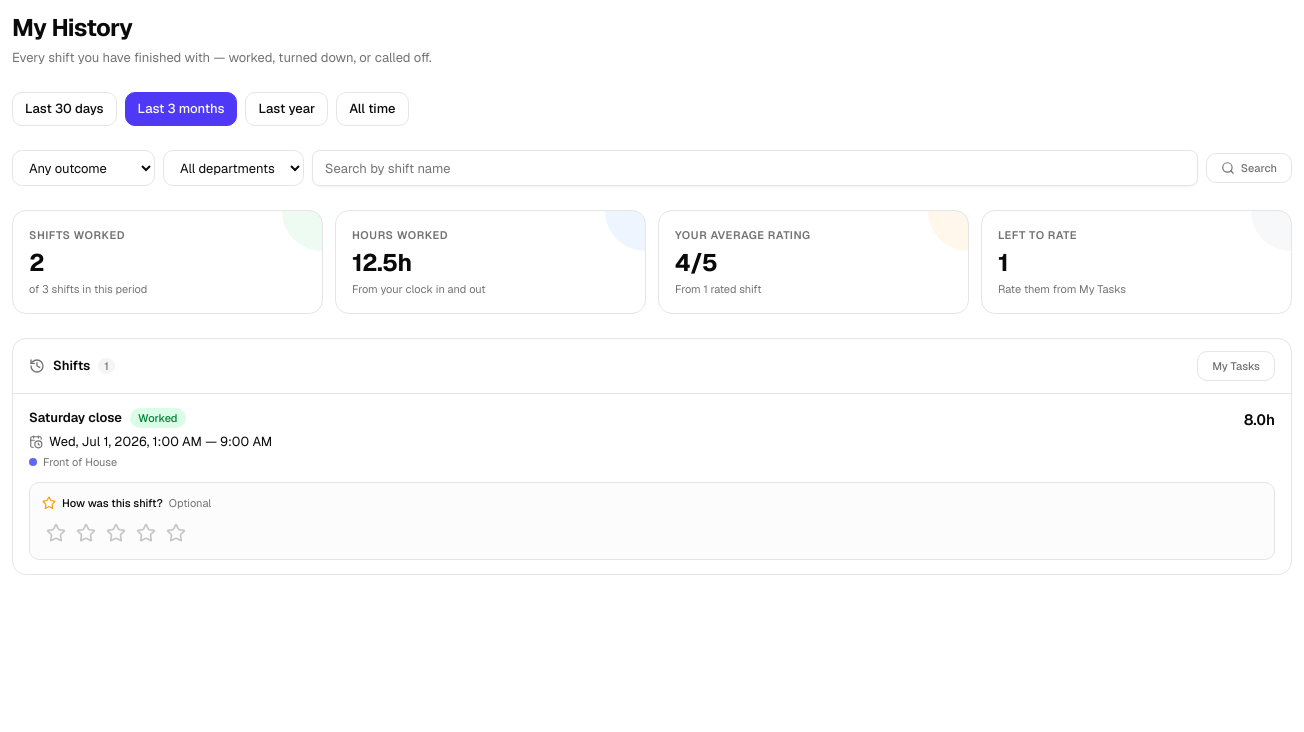
when the load fails › clears the rows it was showing
Expected: the heading "Saturday close" is shown, [29,408,122,428]
Click the button "All time": click(372, 109) [336,92,409,126]
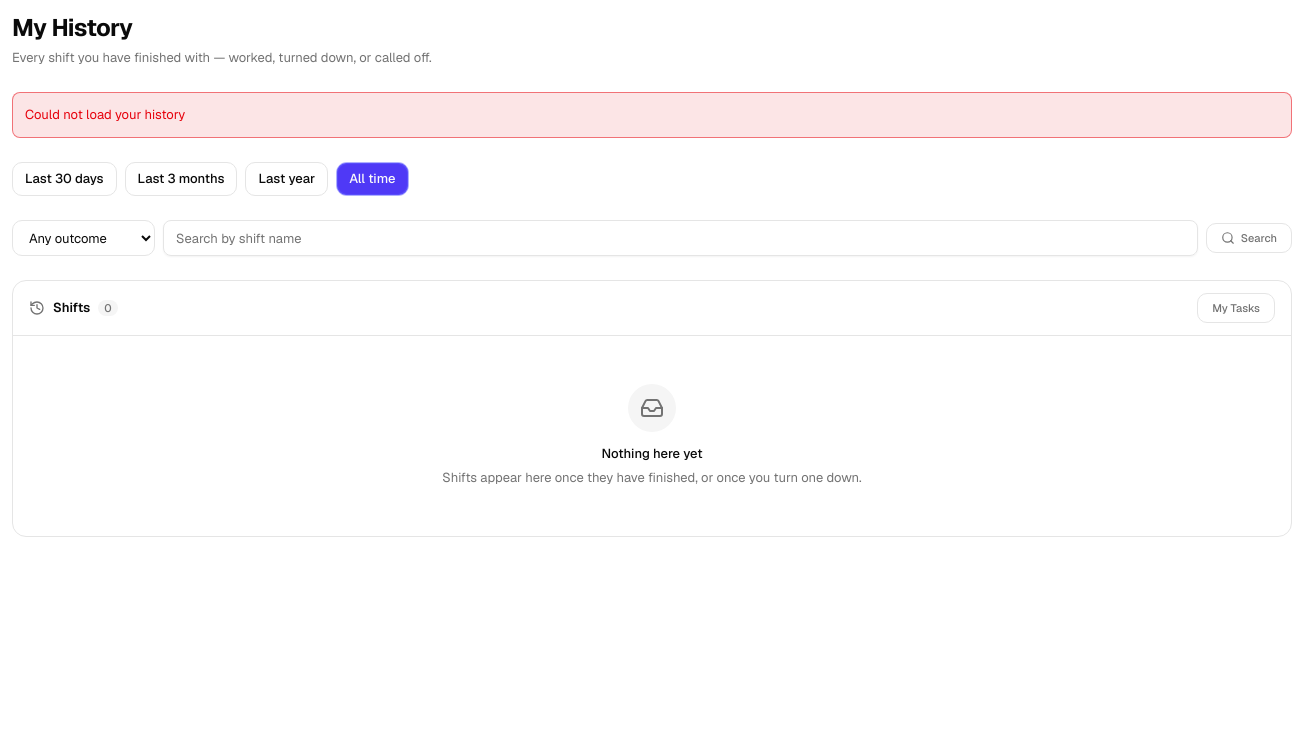
Expected: the heading "Saturday close" is gone
